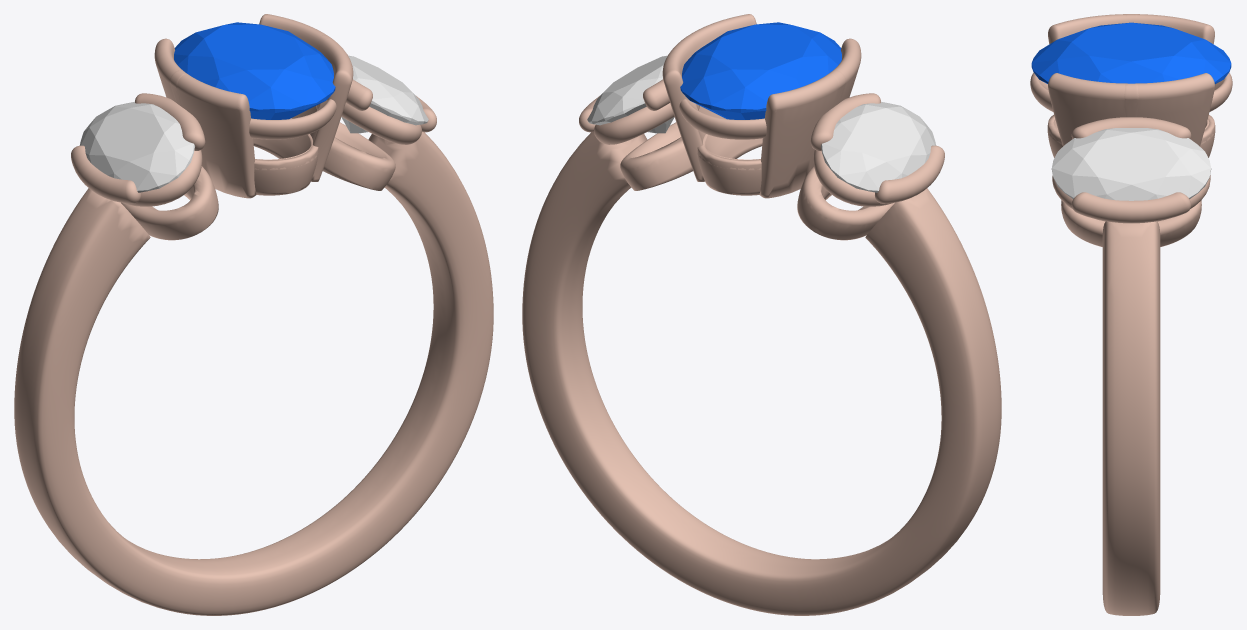
File: bluesapphire-oval-rosegold-halfmoonbezel-straightband-3stone.glb
3 renders of one model, left to right at view 1: azimuth 30°, elevation 25°; view 2: azimuth 150°, elevation 25°; view 3: azimuth 270°, elevation 25°, orthographic.
Visible parts, largest first — view 1: metal, stone.003, side.006, side.007; view 2: metal, stone.003, side.006, side.007; view 3: metal, side.007, stone.003.
Part boxes in pixels (left/top/right/bottom): metal: left=14, top=14, right=493, bottom=615; stone.003: left=174, top=22, right=335, bottom=119; side.006: left=80, top=101, right=194, bottom=192; side.007: left=341, top=55, right=428, bottom=133; metal: left=522, top=14, right=1001, bottom=615; stone.003: left=680, top=22, right=841, bottom=119; side.006: left=821, top=101, right=935, bottom=192; side.007: left=587, top=55, right=674, bottom=133; metal: left=1030, top=14, right=1232, bottom=615; side.007: left=1051, top=128, right=1211, bottom=200; stone.003: left=1031, top=22, right=1231, bottom=83.
Size of the model in its own units: 20.11 by 23.21 by 7.75.
